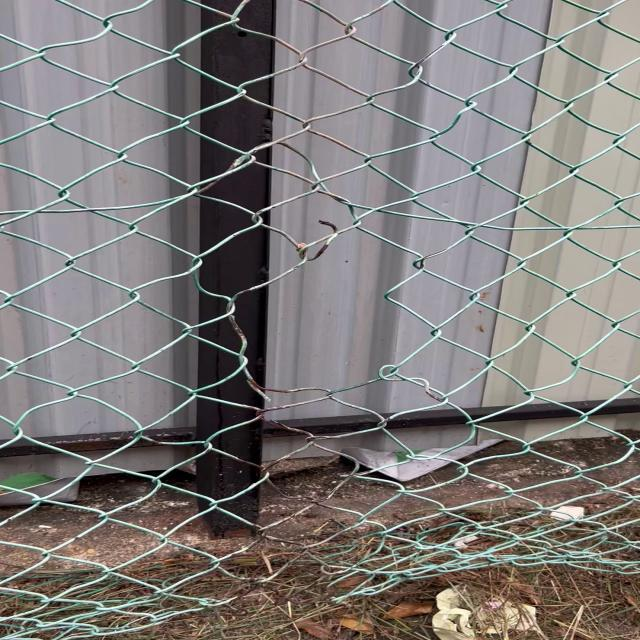fence line: (220, 223, 453, 402)
